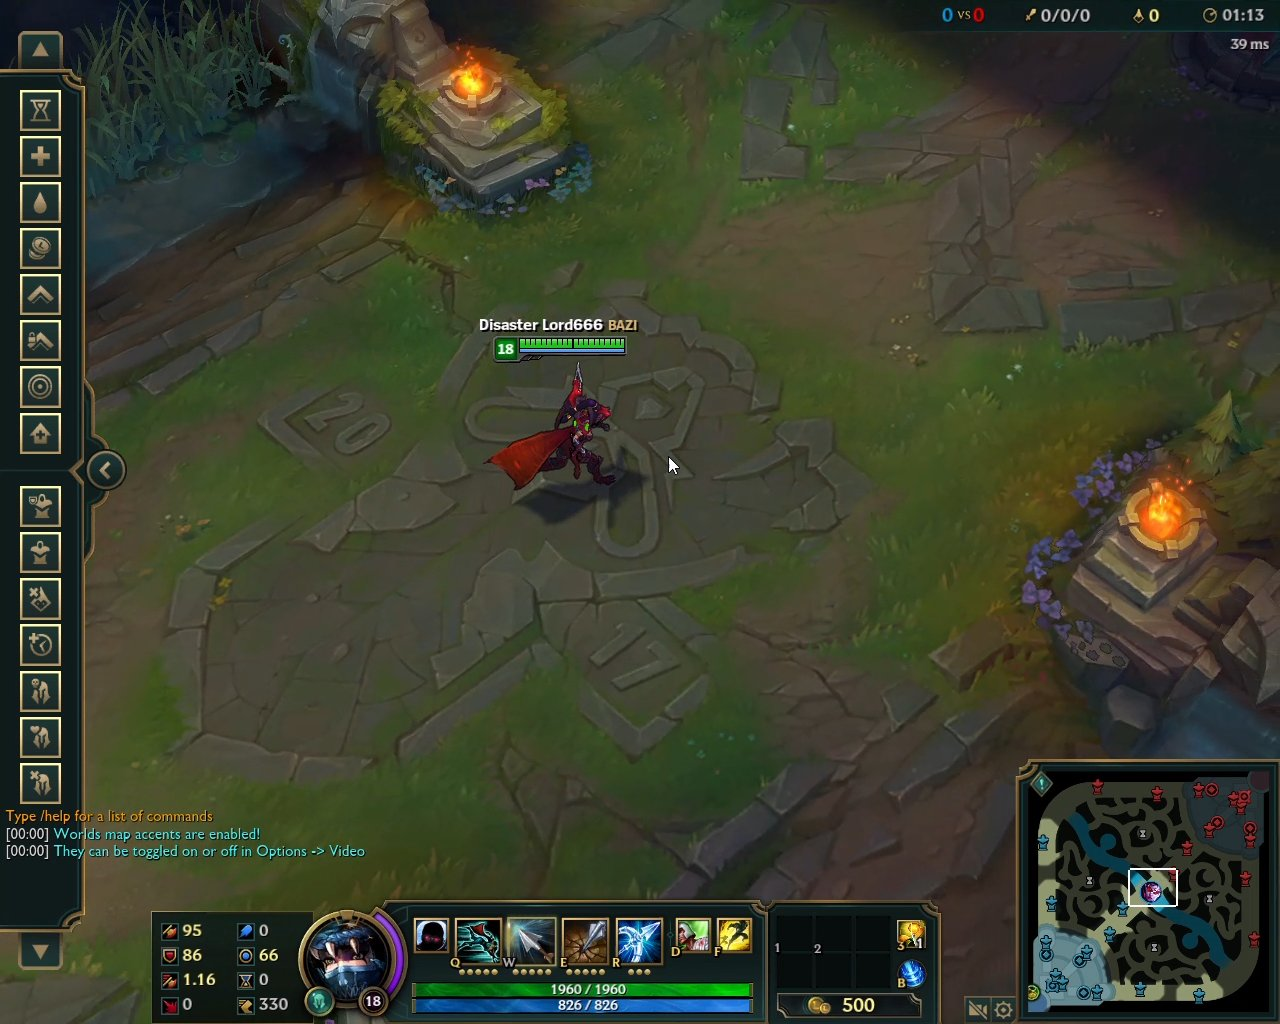Vayne: (481, 360, 616, 497)
